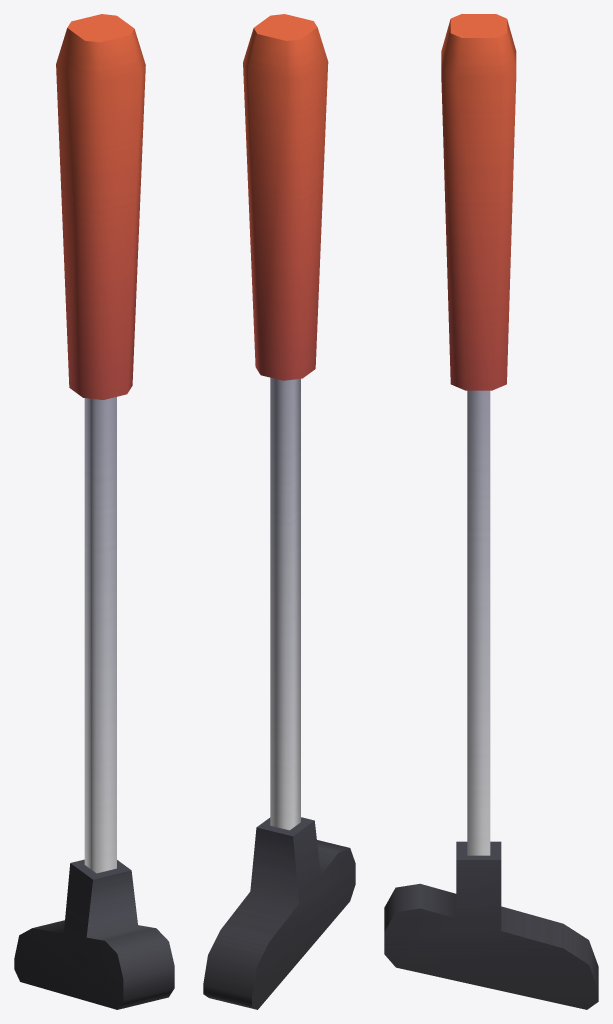
File: club-red.glb
The picture shows the model from 3 angles, left to right: view 1: azimuth 30°, elevation 25°; view 2: azimuth 150°, elevation 25°; view 3: azimuth 270°, elevation 25°; orthographic projection. The views are drawn at different scales.
Parts seen in each view (by area): view 1: club-red; view 2: club-red; view 3: club-red.
Boxes of the visible parts, <box> form: club-red: <box>14,14,174,1009</box>; club-red: <box>203,14,355,1009</box>; club-red: <box>384,14,598,1009</box>.
Bounding box in the file's own units: 0.0738 × 1.05 × 0.2102.
1 material, 1 textured.
